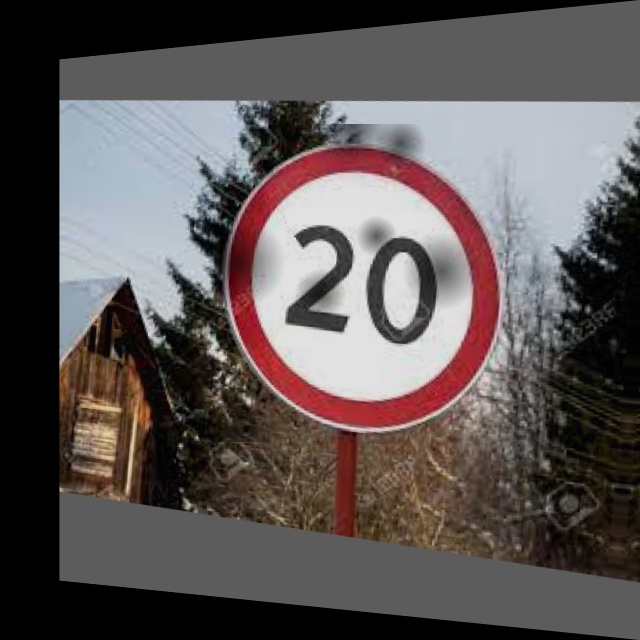Speed_Limit_20: (215, 124, 514, 442)
